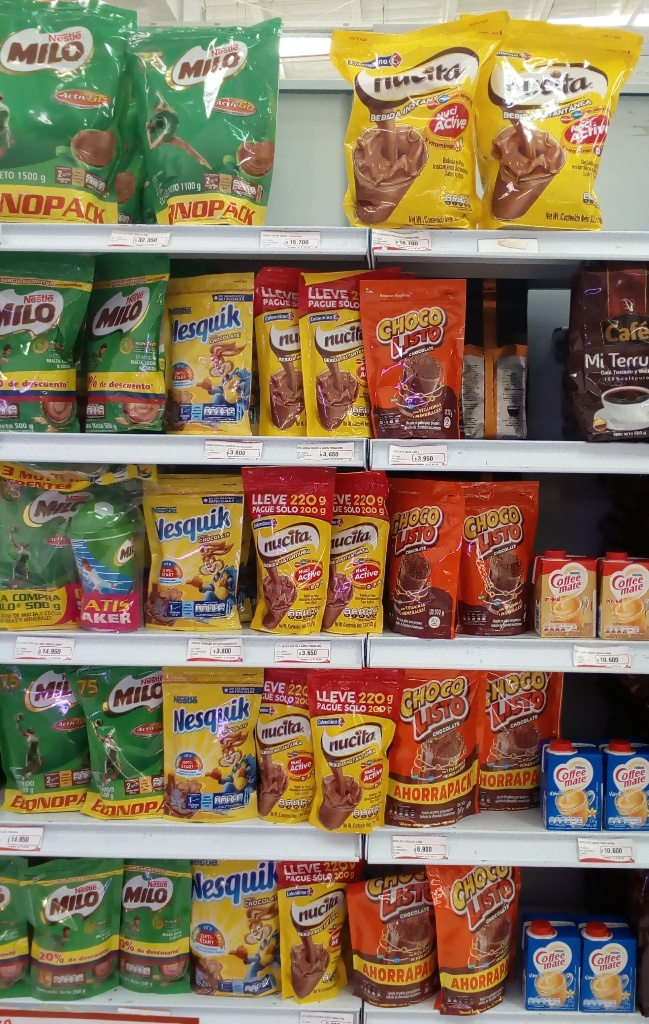COL0170103DYP36000: (484, 668, 561, 810)
COL0170203DYP25000: (121, 856, 193, 997)
COL0170203DYP50000: (76, 663, 162, 818)
COL0170303DYP20000: (170, 268, 263, 435)
